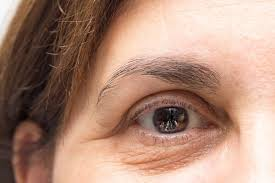pupil: (152, 107, 189, 132)
